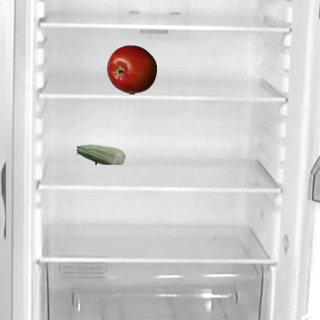Apple Braeburn: (106, 44, 156, 94)
Corn Husk: (75, 129, 125, 179)
